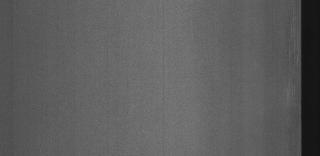silk spot: (284, 10, 300, 102)
